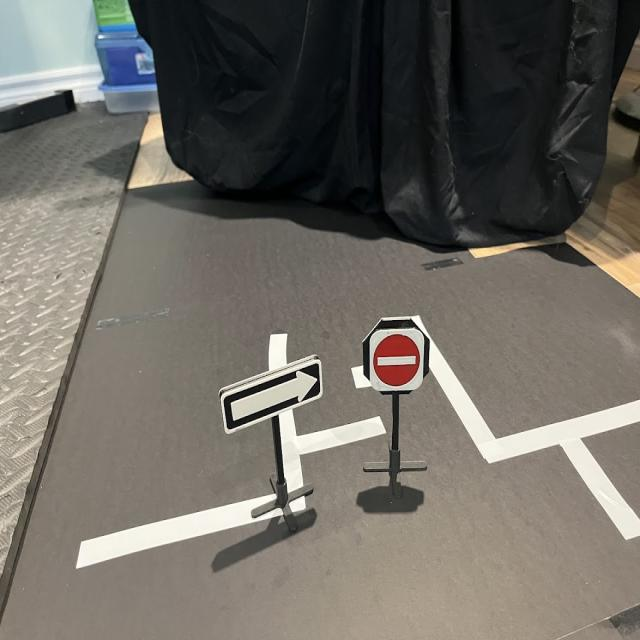sign_noentry: (369, 328, 427, 396)
sign_oneway_right: (220, 353, 326, 438)
